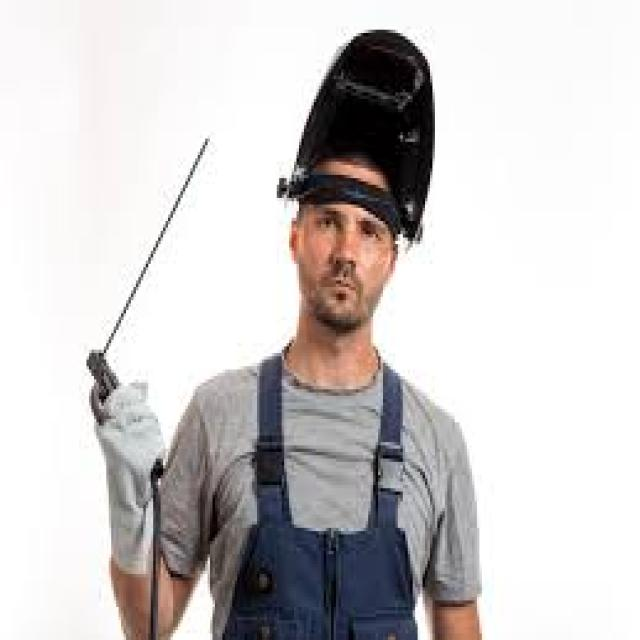helmet_lifted: (269, 17, 443, 343)
